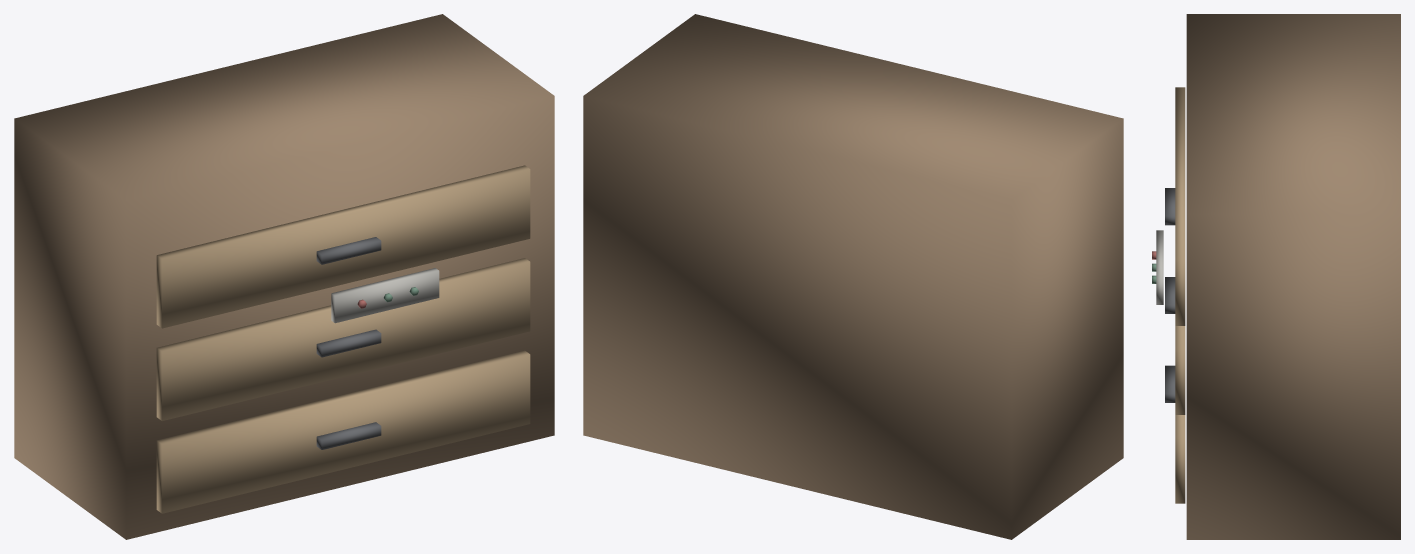
File: residential_dresser__reinforced.glb
3 renders of one model, left to right at view 1: azimuth 30°, elevation 25°; view 2: azimuth 150°, elevation 25°; view 3: azimuth 270°, elevation 25°, orthographic. The views are drawn at different scales.
Visible parts, largest first — view 1: world; view 2: world; view 3: world.
Boxes of the visible parts, <box> form: world: <box>14,14,554,539</box>; world: <box>583,14,1123,539</box>; world: <box>1152,14,1400,539</box>.
Bounding box in the file's own units: 1.18 × 0.8976 × 0.6216.
